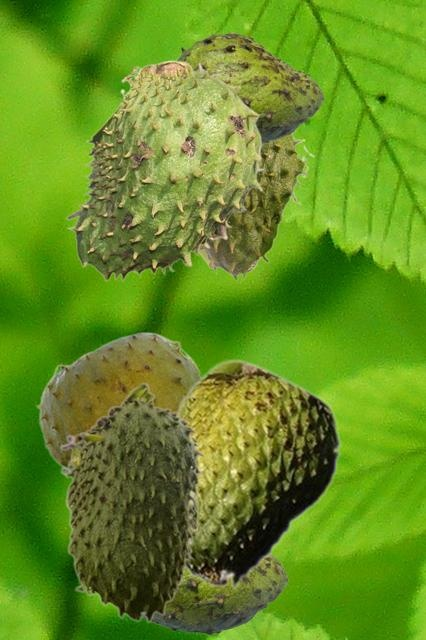guyabano: (65, 60, 263, 281), (174, 358, 341, 590), (60, 381, 205, 622), (35, 331, 201, 467), (199, 130, 314, 280), (176, 32, 323, 143), (152, 555, 287, 634)
